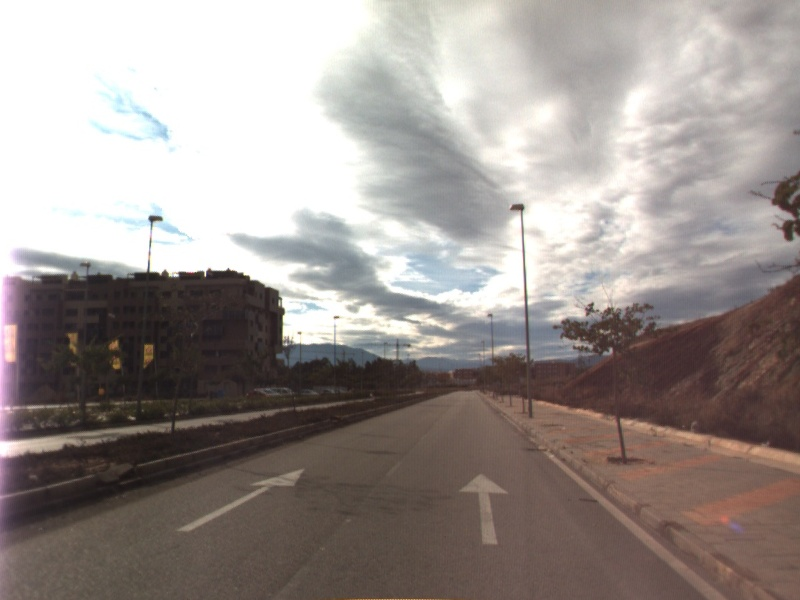STRAIGHT: (174, 466, 307, 534), (457, 471, 510, 547)
